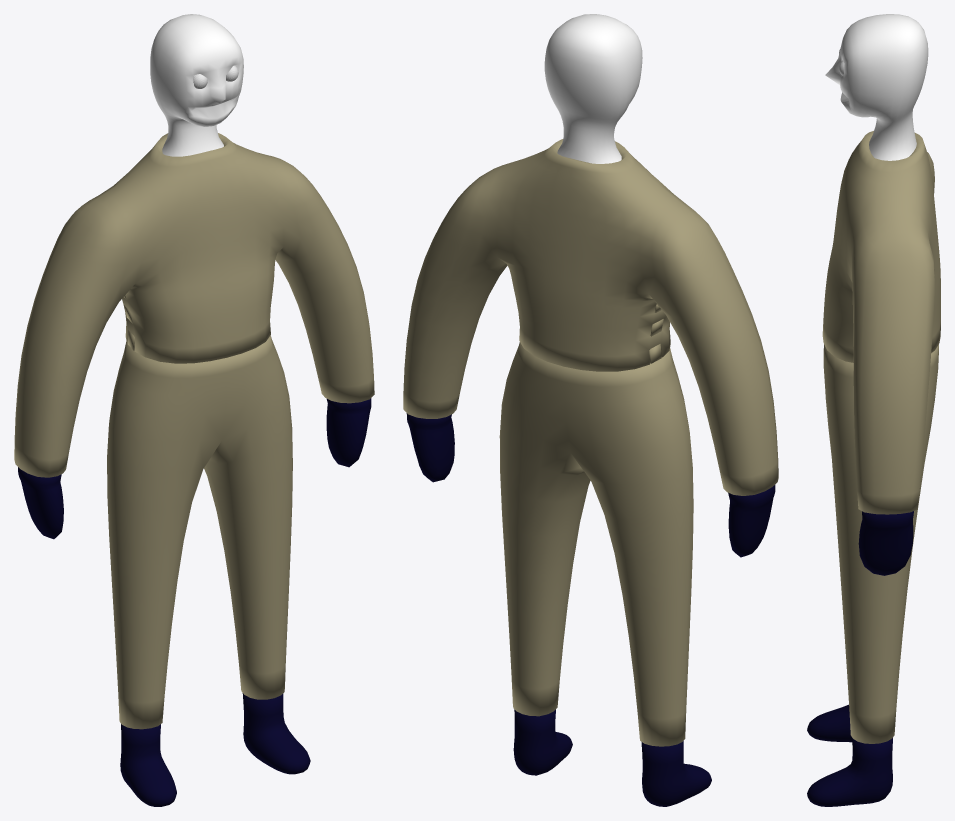
The model's file is human2.fbx.
3 views of the same model, side by side, from view 1: azimuth 30°, elevation 25°; view 2: azimuth 150°, elevation 25°; view 3: azimuth 270°, elevation 25° (orthographic). The views are drawn at different scales.
Parts seen in each view (by area): view 1: shirt, pants, Cube, boots, hands; view 2: shirt, pants, Cube, boots, hands; view 3: shirt, pants, Cube, boots, hands.
Part boxes in pixels (bbox=[...]): shirt: bbox=[14, 133, 374, 477]; pants: bbox=[107, 335, 292, 729]; Cube: bbox=[150, 14, 243, 156]; boots: bbox=[120, 693, 310, 806]; hands: bbox=[18, 398, 371, 539]; shirt: bbox=[403, 139, 778, 495]; pants: bbox=[499, 342, 693, 746]; Cube: bbox=[544, 14, 642, 163]; boots: bbox=[513, 709, 711, 806]; hands: bbox=[406, 413, 775, 557]; shirt: bbox=[822, 131, 940, 514]; pants: bbox=[823, 344, 938, 743]; Cube: bbox=[825, 14, 928, 160]; boots: bbox=[807, 704, 892, 806]; hands: bbox=[858, 511, 913, 575].
Size of the model in its own units: 339 by 692 by 112.
